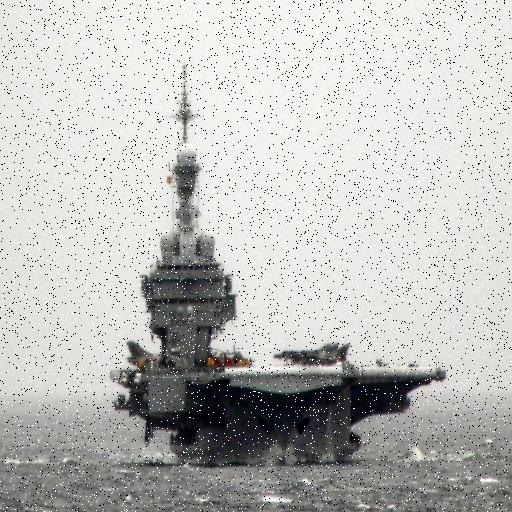Portanaves: (107, 37, 453, 466)
